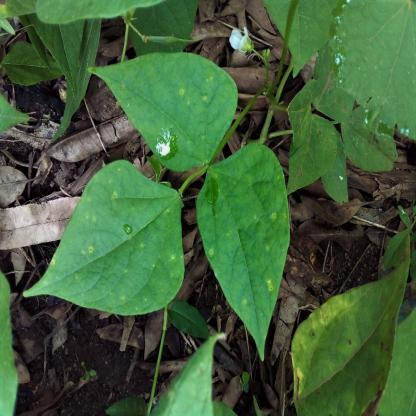Beans_Rust: (24, 163, 185, 314), (291, 230, 413, 416), (196, 142, 288, 362), (87, 54, 236, 172)
